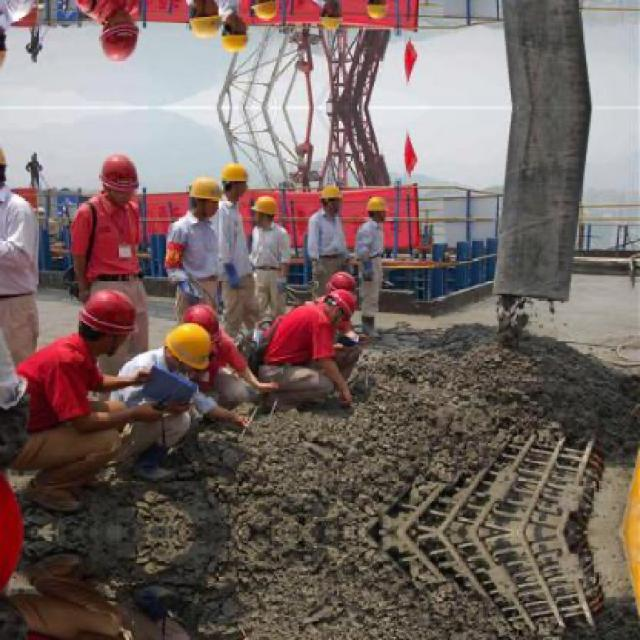helmet: (74, 283, 140, 354), (160, 316, 214, 378), (95, 150, 140, 204), (95, 9, 140, 63), (188, 0, 225, 42), (188, 172, 223, 215), (218, 158, 252, 200), (184, 300, 222, 337), (218, 14, 252, 55), (323, 266, 362, 299), (326, 283, 360, 317), (360, 190, 392, 224), (317, 178, 345, 216), (248, 192, 277, 228), (316, 0, 345, 35), (360, 0, 394, 23), (248, 0, 278, 22)
